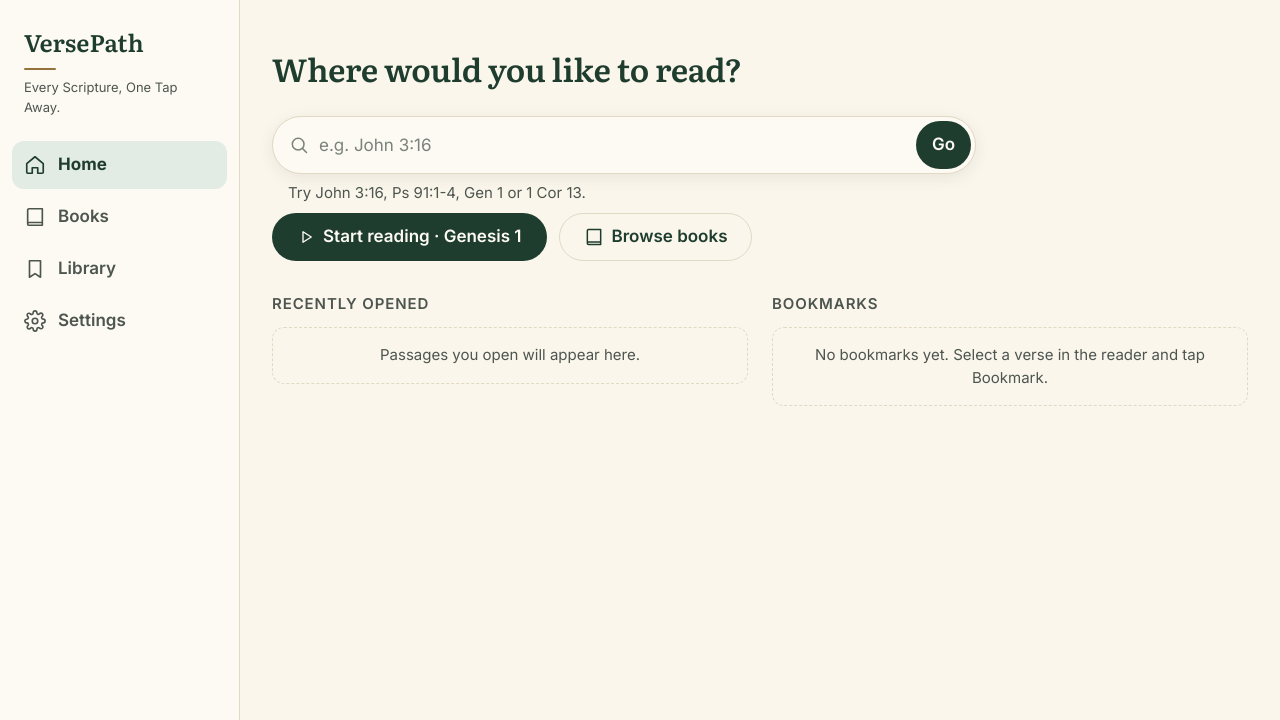
Test: reference search › clears the error when the user edits the input
The width and height of the screenshot is (1280, 720).
Type "Jhon 3:16" into the search field named "bible reference".
click(612, 145); type("Jhon 3:16")  # box [317,121,908,169]
Then press Enter
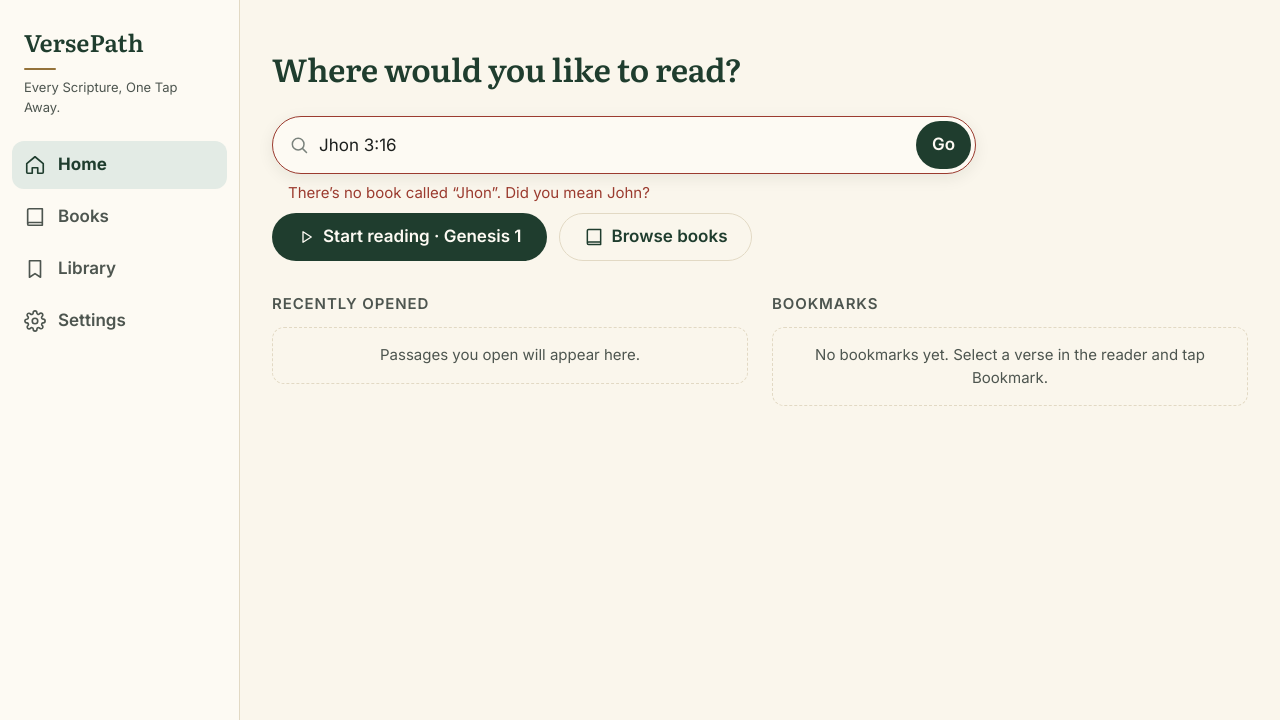
expect the message shows "Did you mean John?": met, box [288,183,650,202]
Type "x" into the search field named "bible reference".
click(612, 145); type("x")  # box [317,121,908,169]
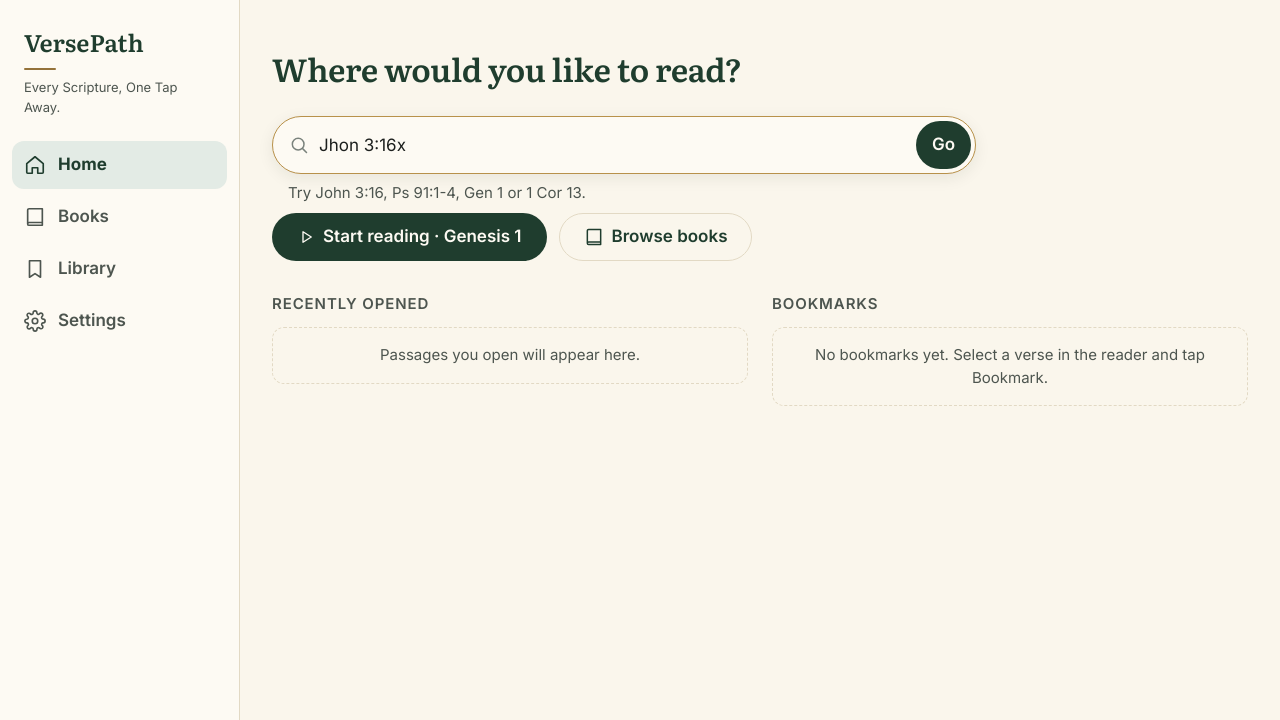
expect the message no longer shows "Did you mean": met, box [288,183,586,202]
